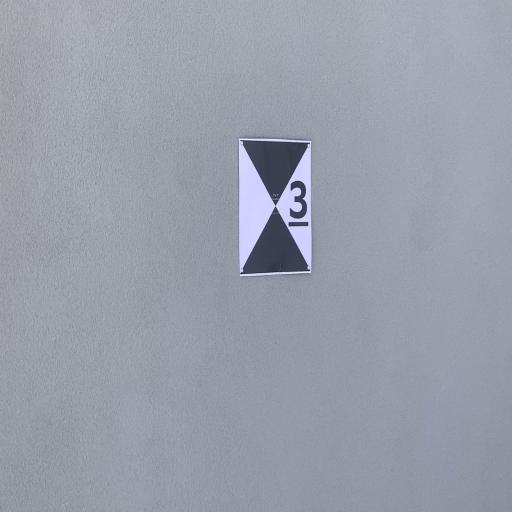target3: (238, 137, 311, 278)
